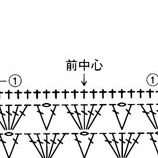enseble_chain: (76, 98, 114, 137), (2, 100, 37, 137), (114, 128, 150, 158), (39, 128, 75, 158), (21, 127, 51, 158), (98, 128, 128, 158), (39, 103, 67, 135), (114, 102, 141, 134), (0, 131, 29, 158), (76, 131, 103, 158), (136, 100, 158, 132), (143, 71, 158, 88)
fan: (24, 128, 51, 158), (68, 131, 91, 158), (109, 132, 127, 158), (0, 105, 16, 132)
